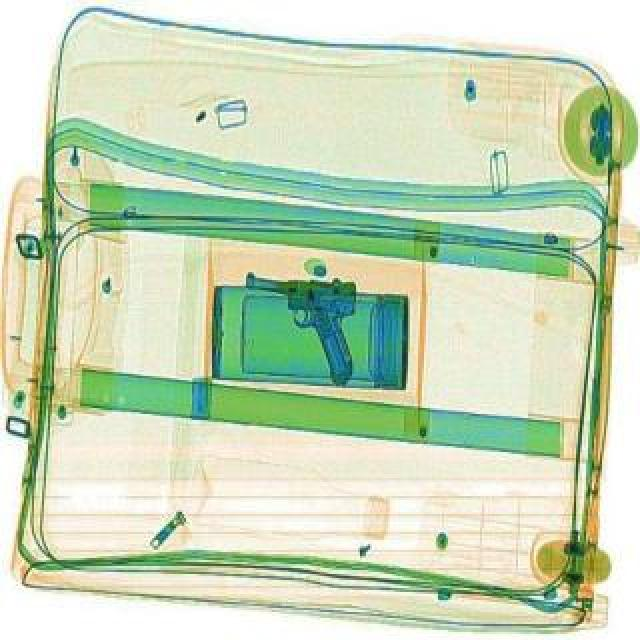gun: (234, 268, 362, 386)
